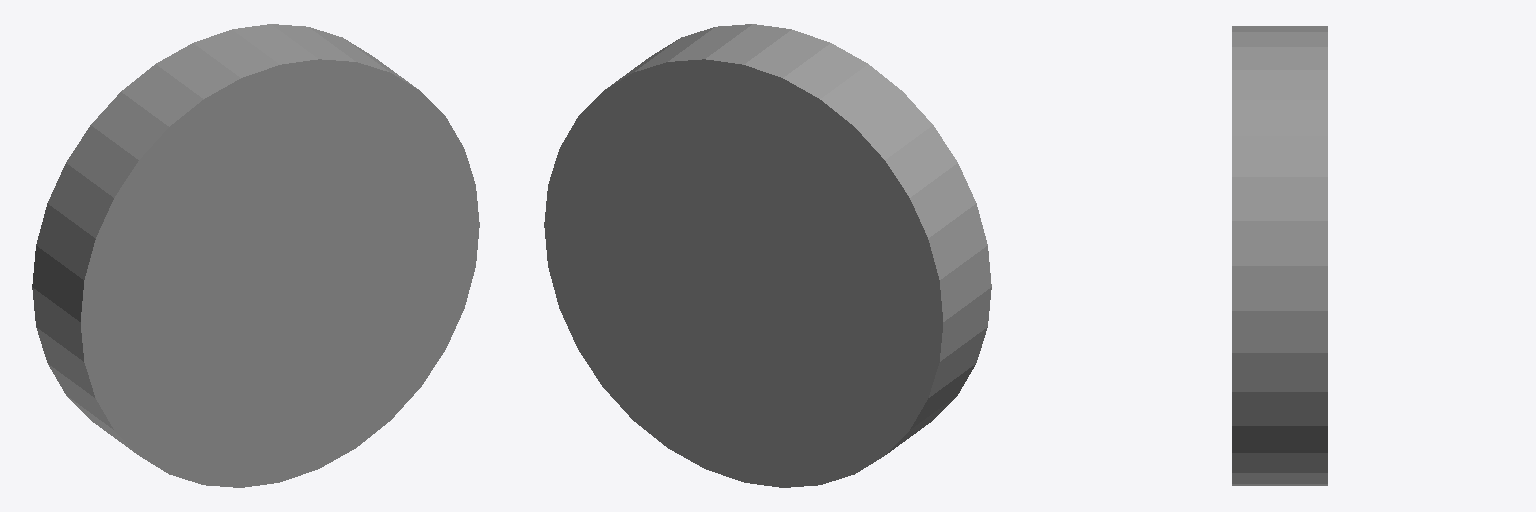
3 renders of one model, left to right at view 1: azimuth 30°, elevation 25°; view 2: azimuth 150°, elevation 25°; view 3: azimuth 270°, elevation 25°, orthographic.
Parts seen in each view (by area): view 1: Cylinder_wheel; view 2: Cylinder_wheel; view 3: Cylinder_wheel.
Part boxes in pixels (x1,y1,x2,y2): Cylinder_wheel: (32,24,479,487); Cylinder_wheel: (544,24,991,487); Cylinder_wheel: (1232,26,1327,485).
Bounding box in the file's own units: 0.0437 × 0.0437 × 0.0092.